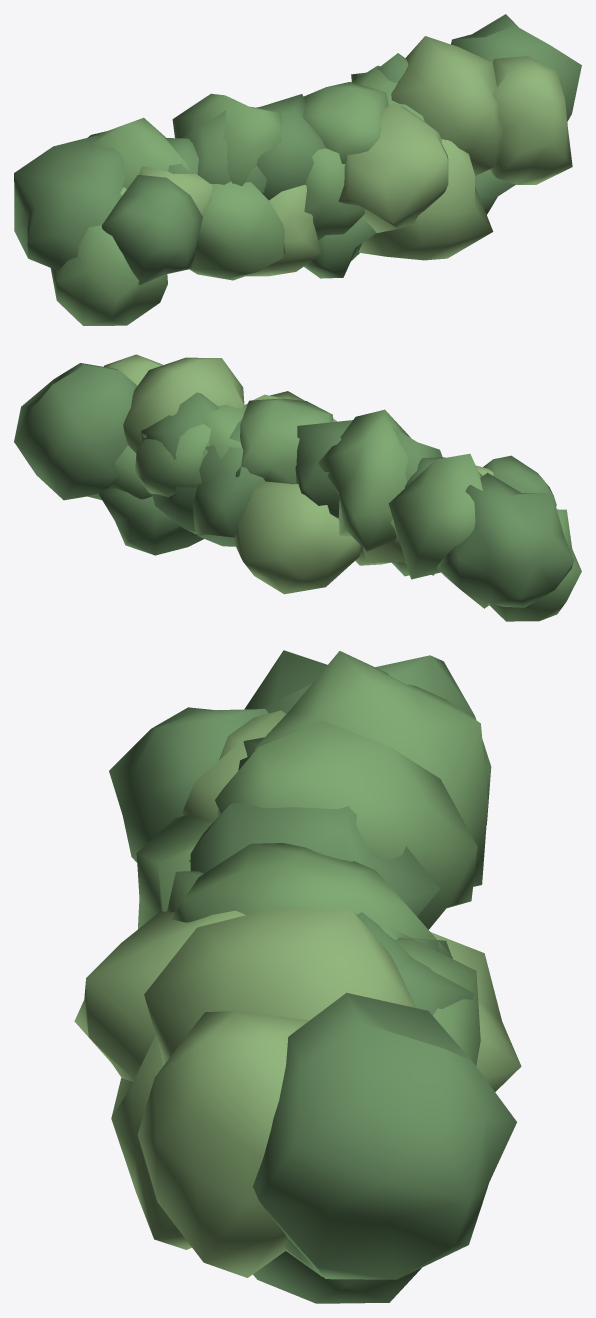
File: ext_hedge_bush.glb
3 renders of one model, top to bottom at view 1: azimuth 30°, elevation 25°; view 2: azimuth 150°, elevation 25°; view 3: azimuth 270°, elevation 25°, orthographic. The views are drawn at different scales.
Visible parts, largest first — view 1: Canopy; view 2: Canopy; view 3: Canopy.
Part boxes in pixels (left/top/right/bottom): Canopy: left=14, top=14, right=581, bottom=325; Canopy: left=14, top=354, right=581, bottom=621; Canopy: left=74, top=650, right=521, bottom=1303.
Size of the model in its own units: 2.94 by 0.9969 by 1.06.
